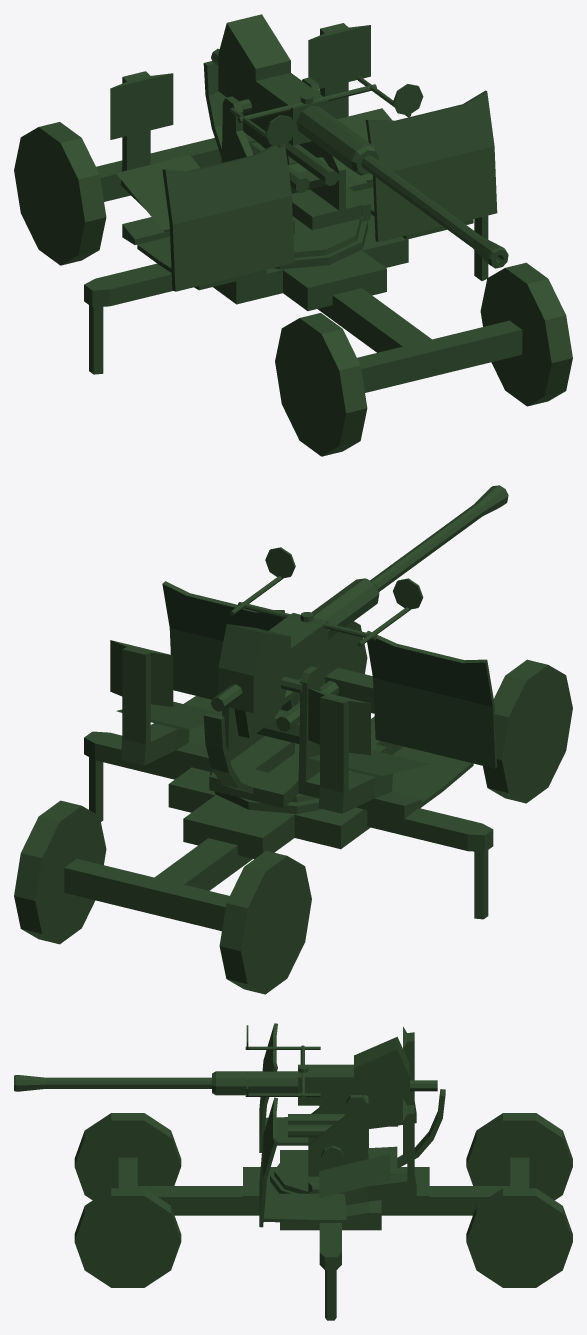
File: 40mm Bofors.fbx
The picture shows the model from 3 angles, top to bottom: view 1: azimuth 30°, elevation 25°; view 2: azimuth 150°, elevation 25°; view 3: azimuth 270°, elevation 25°; orthographic projection. The views are drawn at different scales.
Parts seen in each view (by area): view 1: 40 mm Base, 40 mm Traverse, 40 mm Gun; view 2: 40 mm Base, 40 mm Traverse, 40 mm Gun; view 3: 40 mm Base, 40 mm Traverse, 40 mm Gun.
Boxes of the visible parts, box(x1,y1,x2,y2) form: 40 mm Base: box(14, 122, 572, 456); 40 mm Traverse: box(110, 23, 497, 291); 40 mm Gun: box(211, 14, 508, 268); 40 mm Base: box(14, 621, 572, 994); 40 mm Traverse: box(110, 581, 497, 819); 40 mm Gun: box(211, 485, 508, 738); 40 mm Base: box(74, 1113, 572, 1320); 40 mm Traverse: box(259, 1023, 445, 1227); 40 mm Gun: box(14, 1025, 437, 1126).
Bounding box in the file's own units: 322 × 210 × 517.
